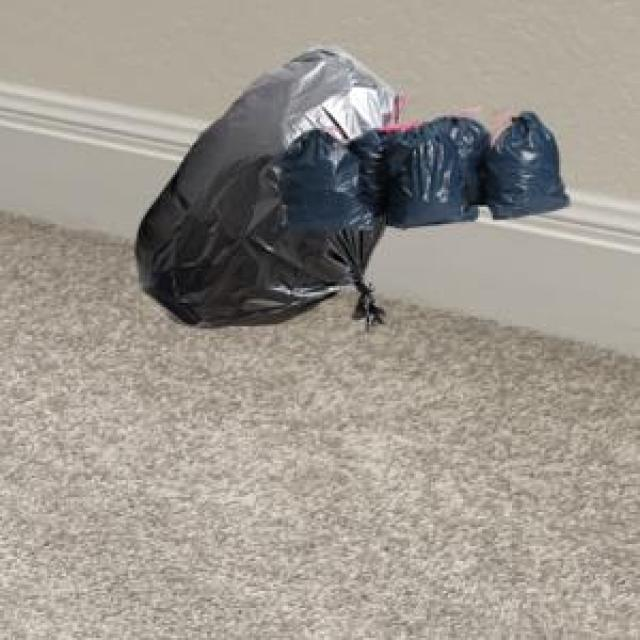waste: (138, 48, 570, 324)
